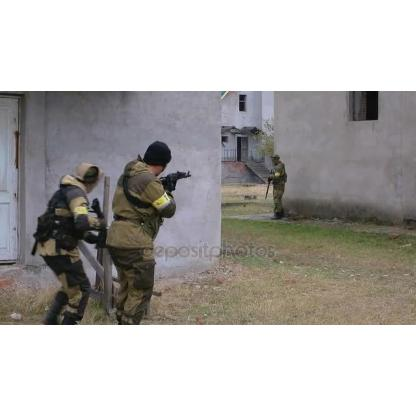gun: (148, 169, 196, 209), (263, 166, 277, 198)
